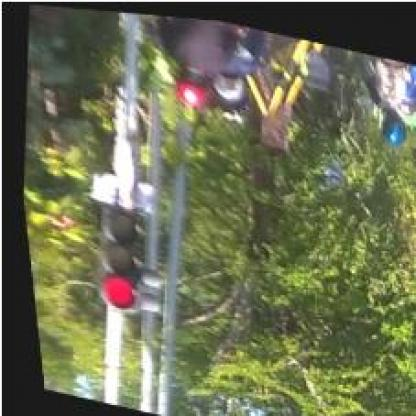red: (79, 204, 137, 309)
